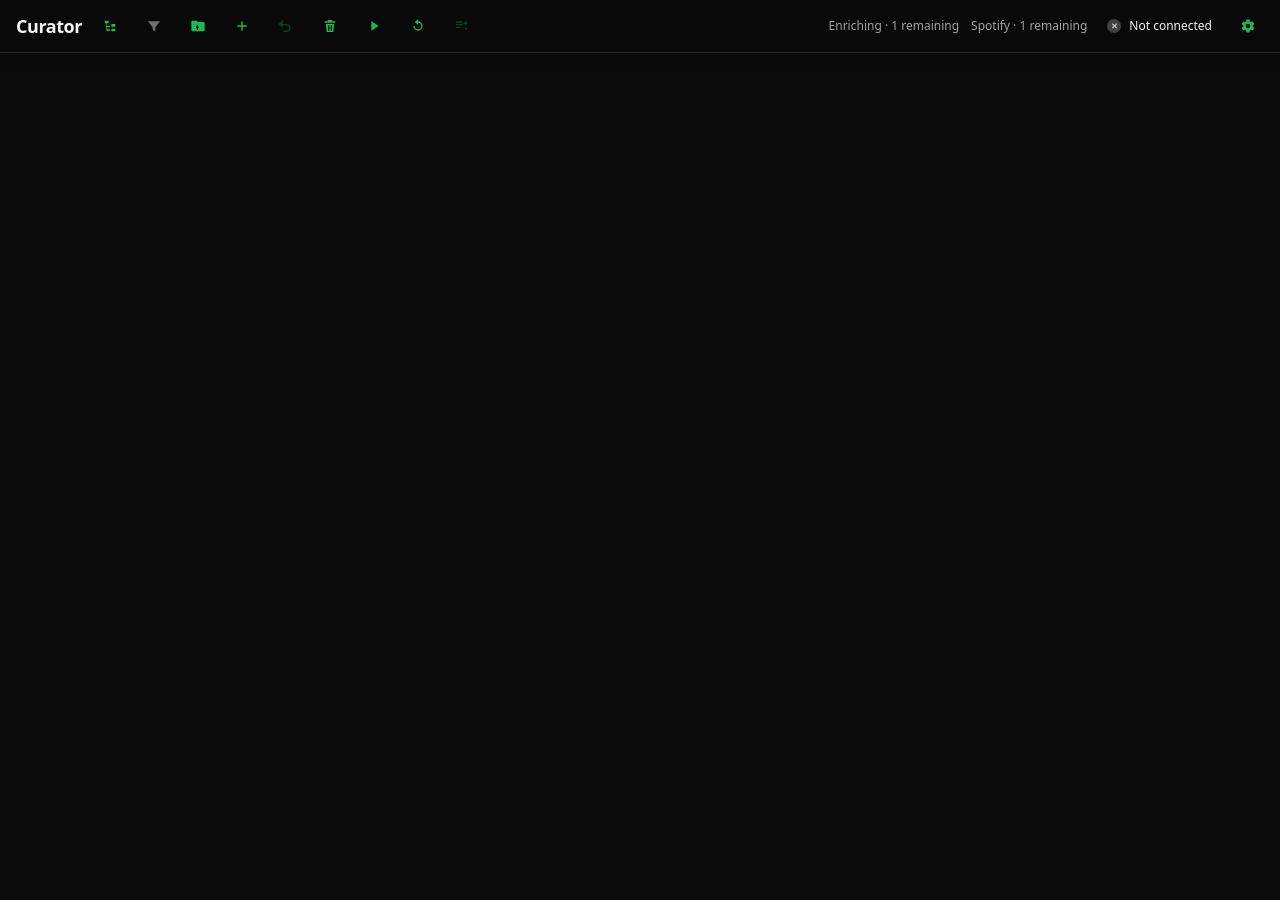
Test case: Toolbar — confirm gating for destructive actions › Cancelling the Clear dialog leaves the playlist intact
What coordinates should you click on to do the following:
click the button named "Clear playlist"
I would click on:
 (330, 26)
Its box is [314,14,346,38].
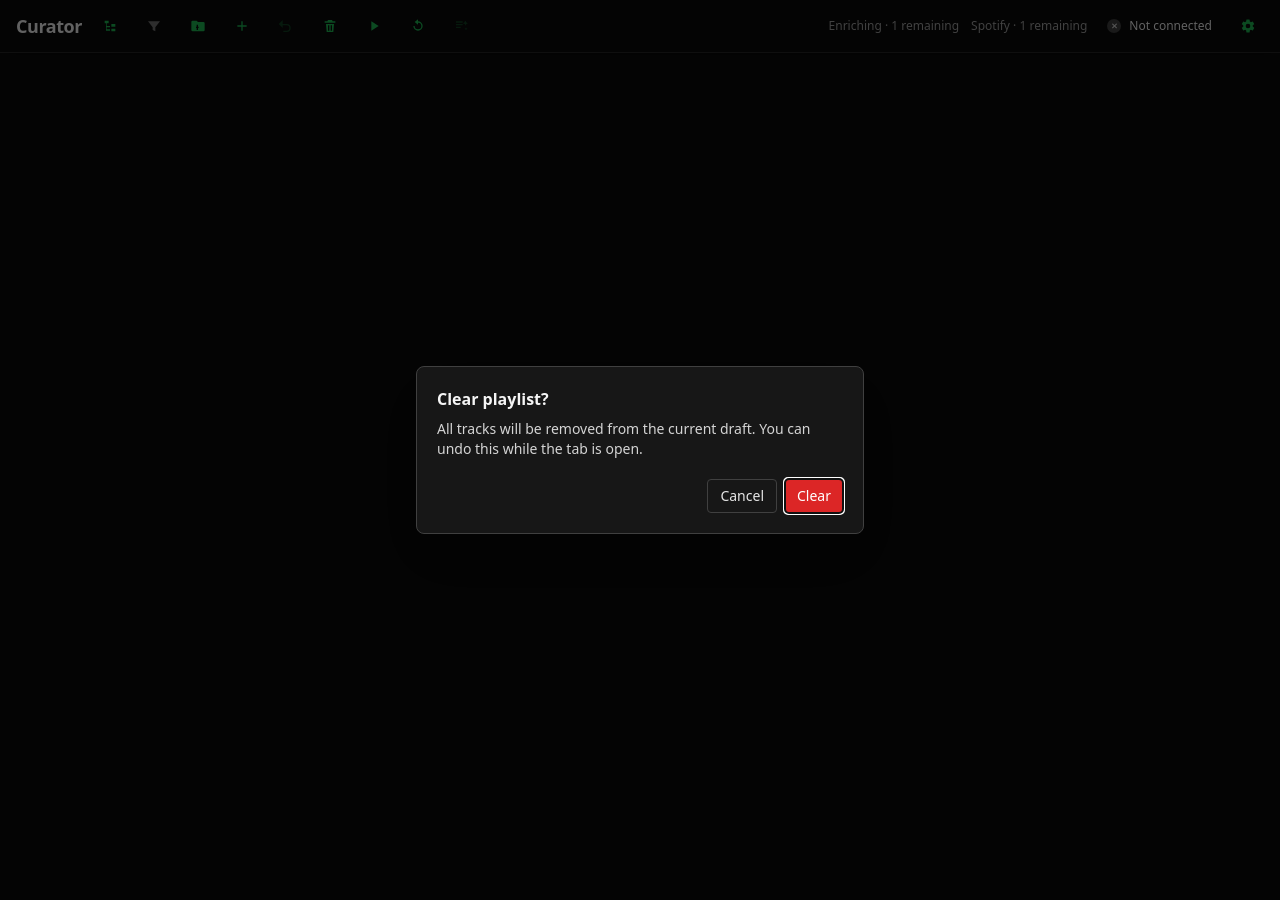
What coordinates should you click on to do the following:
click the button "Cancel"
I would click on:
 (742, 496)
Its box is [707,479,777,513].
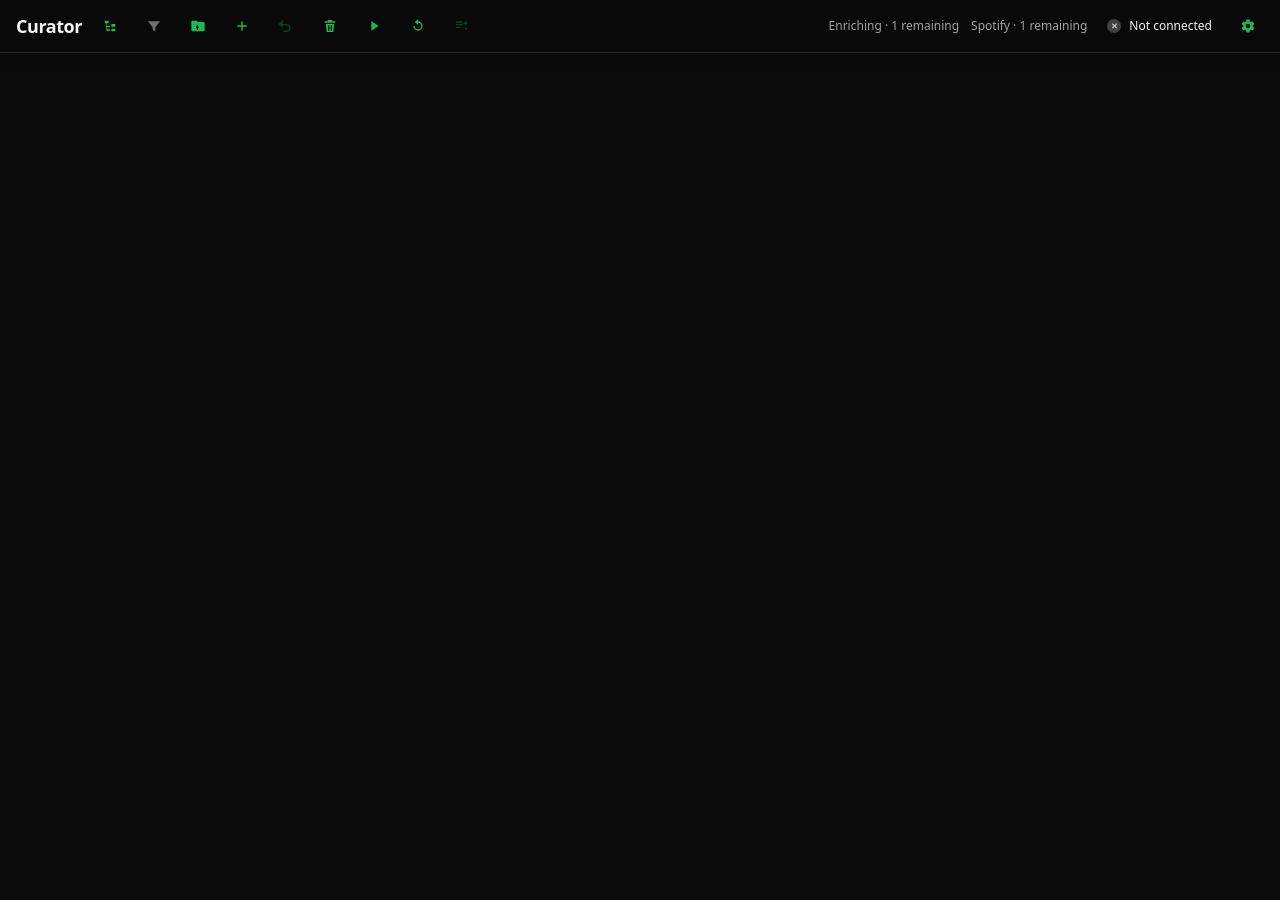
Expected: the heading "Clear playlist?" is gone
